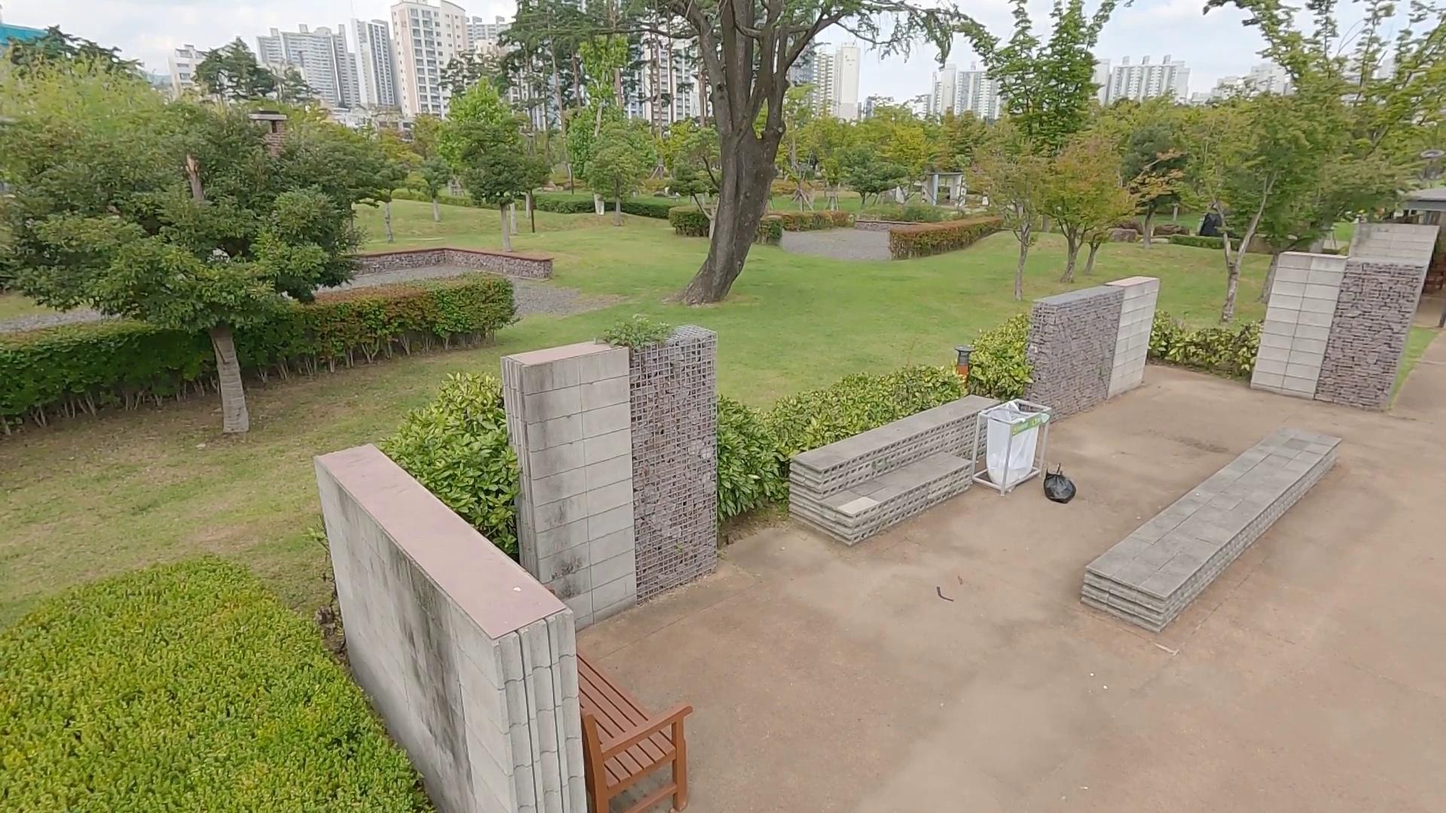trash: (1042, 461, 1077, 504)
